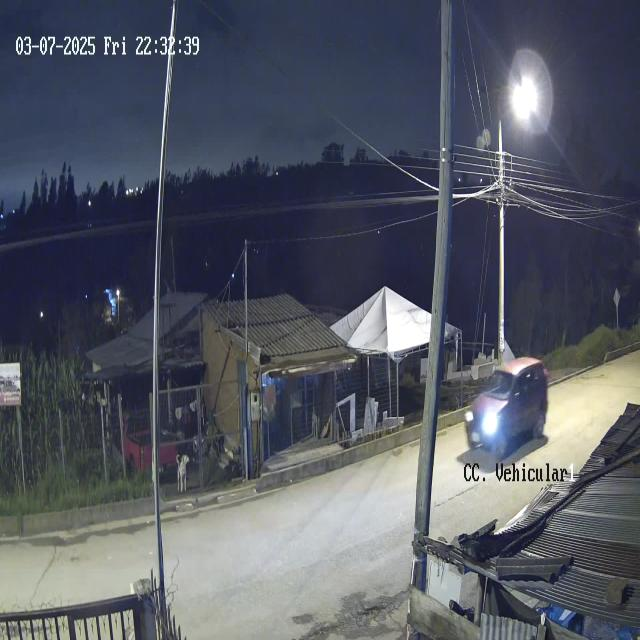SUV: (464, 356, 549, 459)
